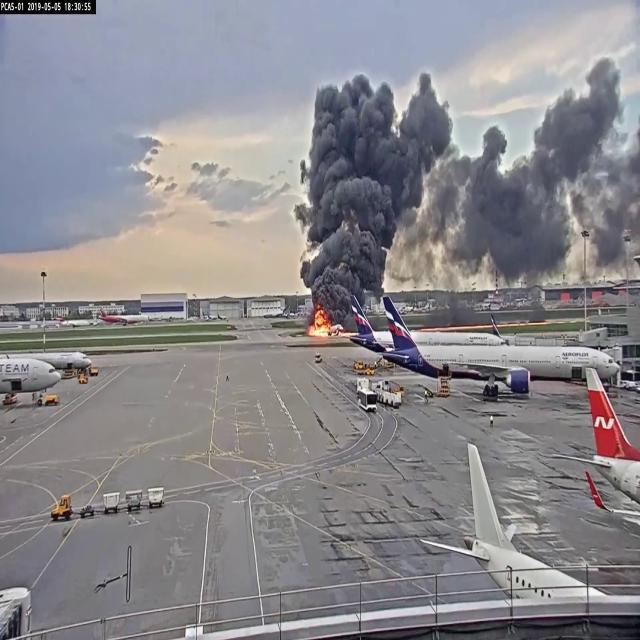Fire: (313, 300, 336, 347)
Smoke: (314, 73, 441, 292)
